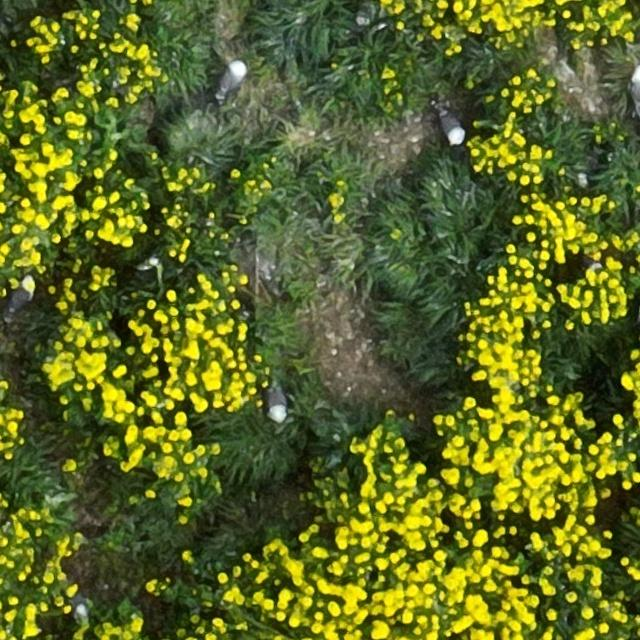umineko: (7, 278, 33, 316), (220, 59, 246, 94), (439, 111, 465, 144), (268, 386, 288, 421)
